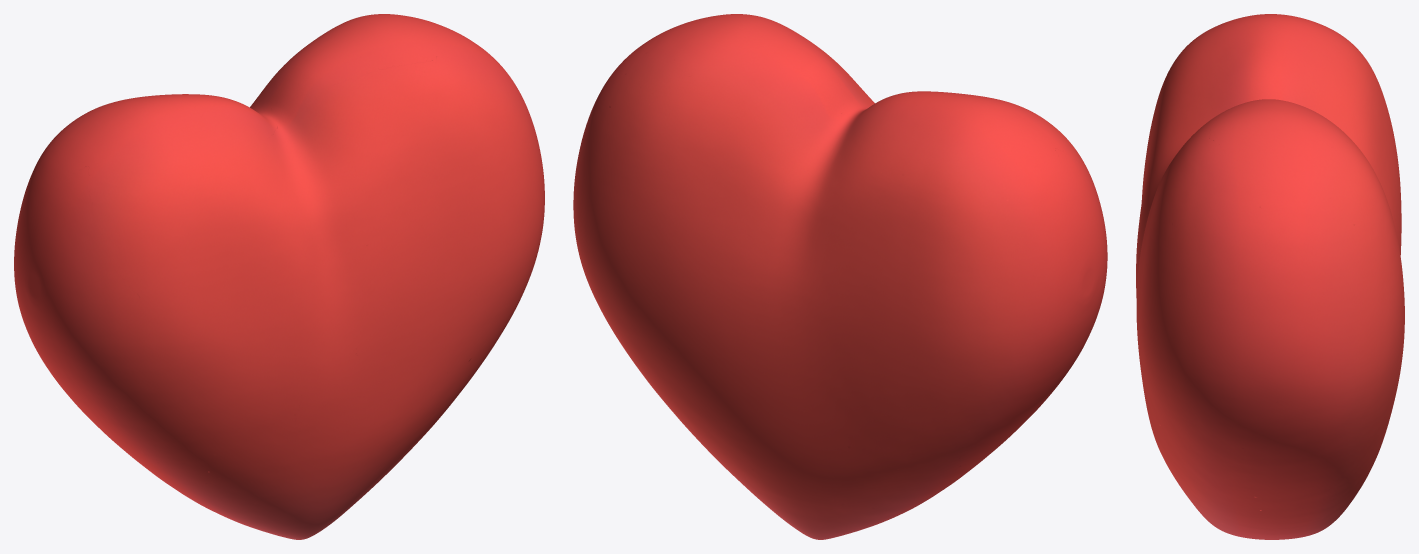
Rendered from heart.glb.
The picture shows the model from 3 angles, left to right: view 1: azimuth 30°, elevation 25°; view 2: azimuth 150°, elevation 25°; view 3: azimuth 270°, elevation 25°; orthographic projection.
Parts seen in each view (by area): view 1: texture_pbr_v128; view 2: texture_pbr_v128; view 3: texture_pbr_v128.
Part boxes in pixels (bbox=[...]): texture_pbr_v128: bbox=[14, 14, 544, 539]; texture_pbr_v128: bbox=[573, 14, 1107, 539]; texture_pbr_v128: bbox=[1136, 14, 1404, 539].
Bounding box in the file's own units: 1.08 × 1 × 0.516.
Materials: 1 (1 with a texture image).
